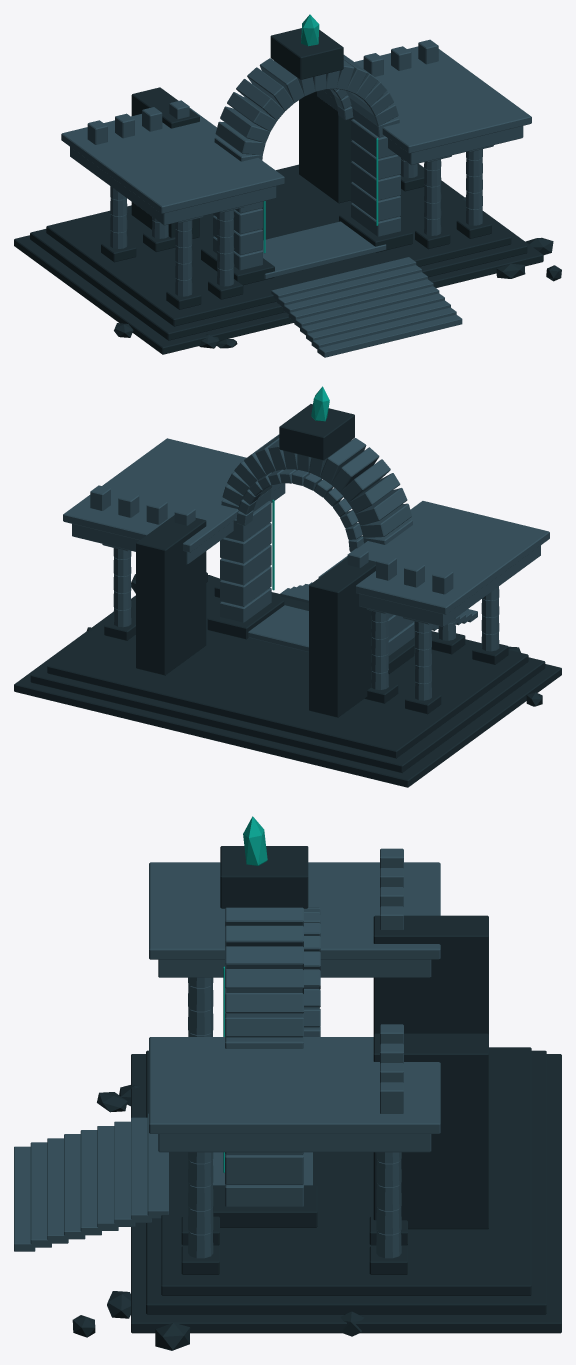
Rendered from distant_temple.obj.
The picture shows the model from 3 angles, top to bottom: view 1: azimuth 30°, elevation 25°; view 2: azimuth 150°, elevation 25°; view 3: azimuth 270°, elevation 25°; orthographic projection. The views are drawn at different scales.
Visible parts, largest first — view 1: distant_temple; view 2: distant_temple; view 3: distant_temple.
Part boxes in pixels (bbox=[...]): distant_temple: bbox=[14, 14, 561, 357]; distant_temple: bbox=[14, 386, 561, 787]; distant_temple: bbox=[14, 816, 561, 1350].
Bounding box in the file's own units: 230 × 143 × 180.
Materials: 1 (1 with a texture image).
